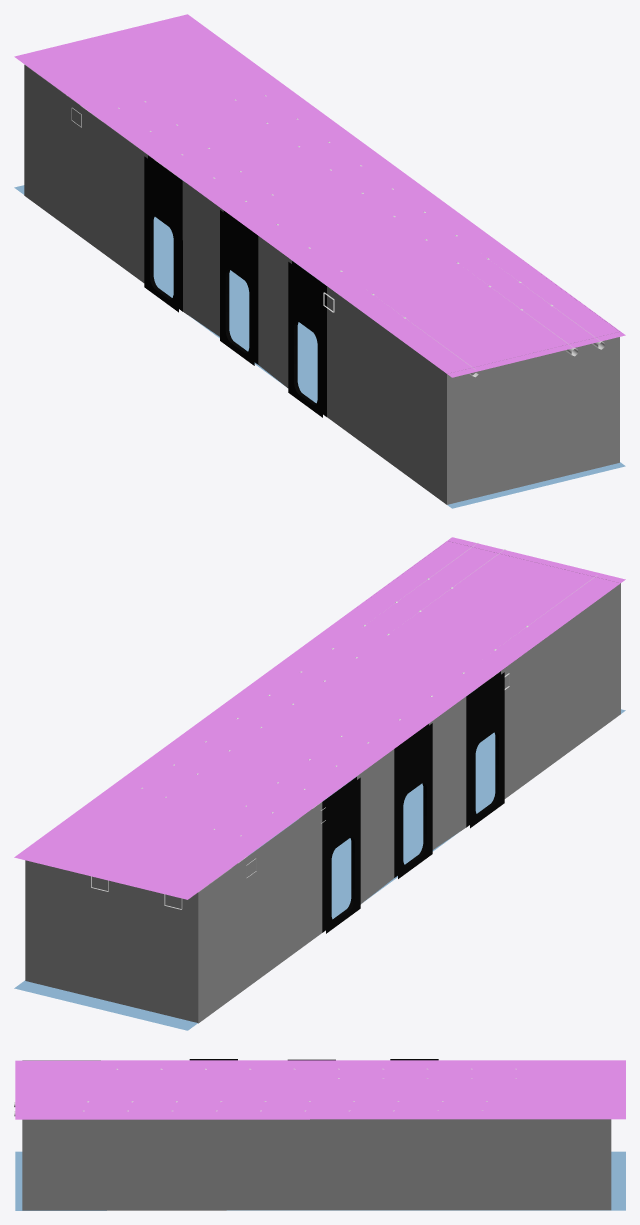
The model's file is storage room.FBX.
3 views of the same model, one above another, from view 1: azimuth 30°, elevation 25°; view 2: azimuth 150°, elevation 25°; view 3: azimuth 270°, elevation 25° (orthographic). The views are drawn at different scales.
Parts seen in each view (by area): view 1: Box030, Object120, Object123, Object121, Object122; view 2: Box030, Object120, Object123, Object121, Object122; view 3: Object120, Box030.
Boxes of the visible parts, x1,y1,x2,y2 form: Box030: (14,14,625,508); Object120: (24,64,619,504); Object123: (144,155,182,312); Object121: (288,261,326,417); Object122: (220,210,258,365); Box030: (14,537,625,1030); Object120: (25,542,620,1023); Object123: (322,777,360,933); Object121: (466,671,504,828); Object122: (394,723,432,878); Object120: (22,1060,611,1210); Box030: (15,1060,625,1210).
Size of the model in its own units: 43.64 by 30.92 by 187.
